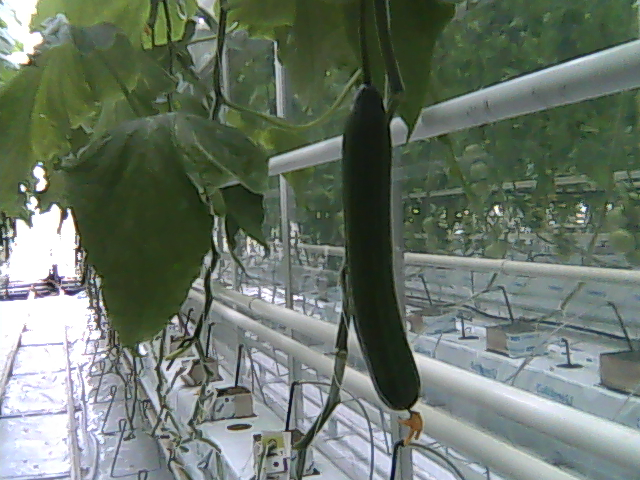concombre: (335, 78, 427, 447)
